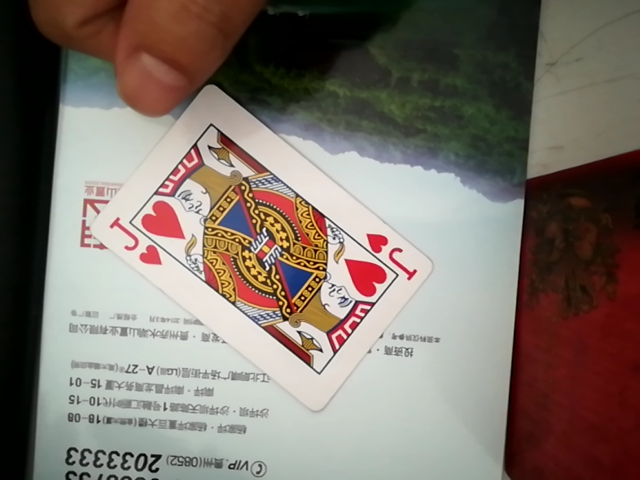hx j: (63, 92, 465, 404)
